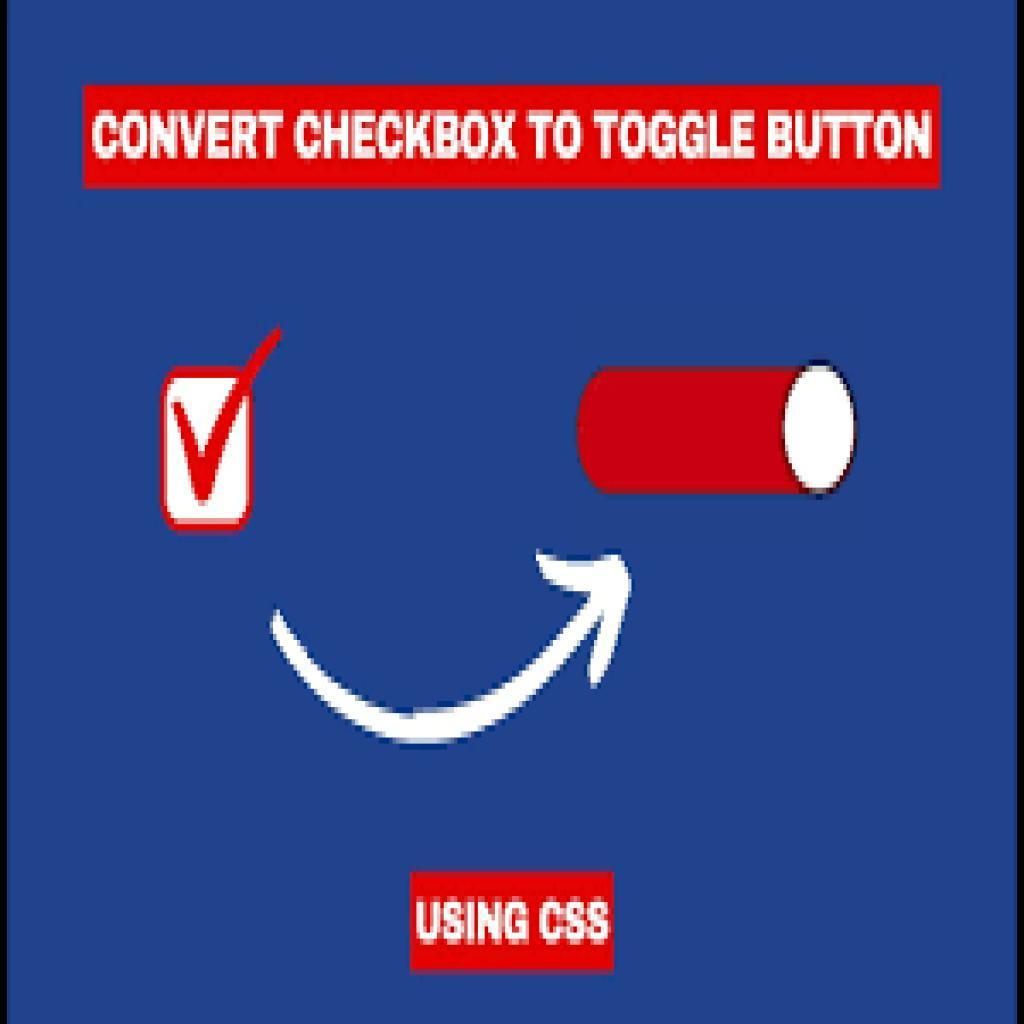checkbox: (159, 316, 288, 536)
switch: (578, 364, 858, 502)
